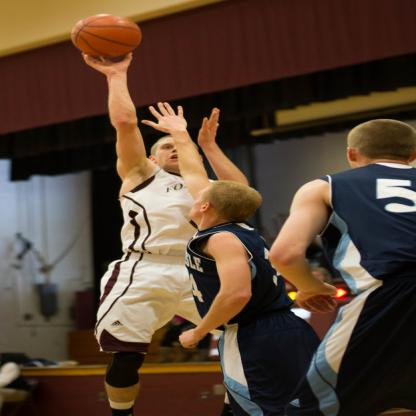Ball: (72, 14, 139, 58)
